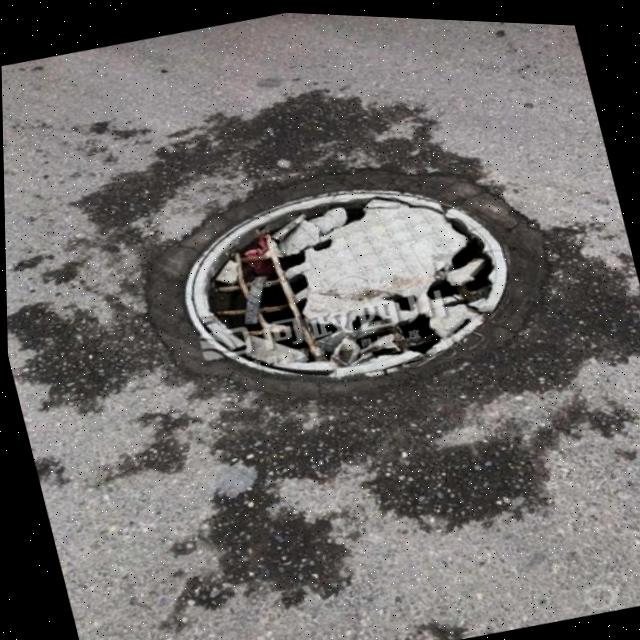manhole: (128, 130, 552, 428)
